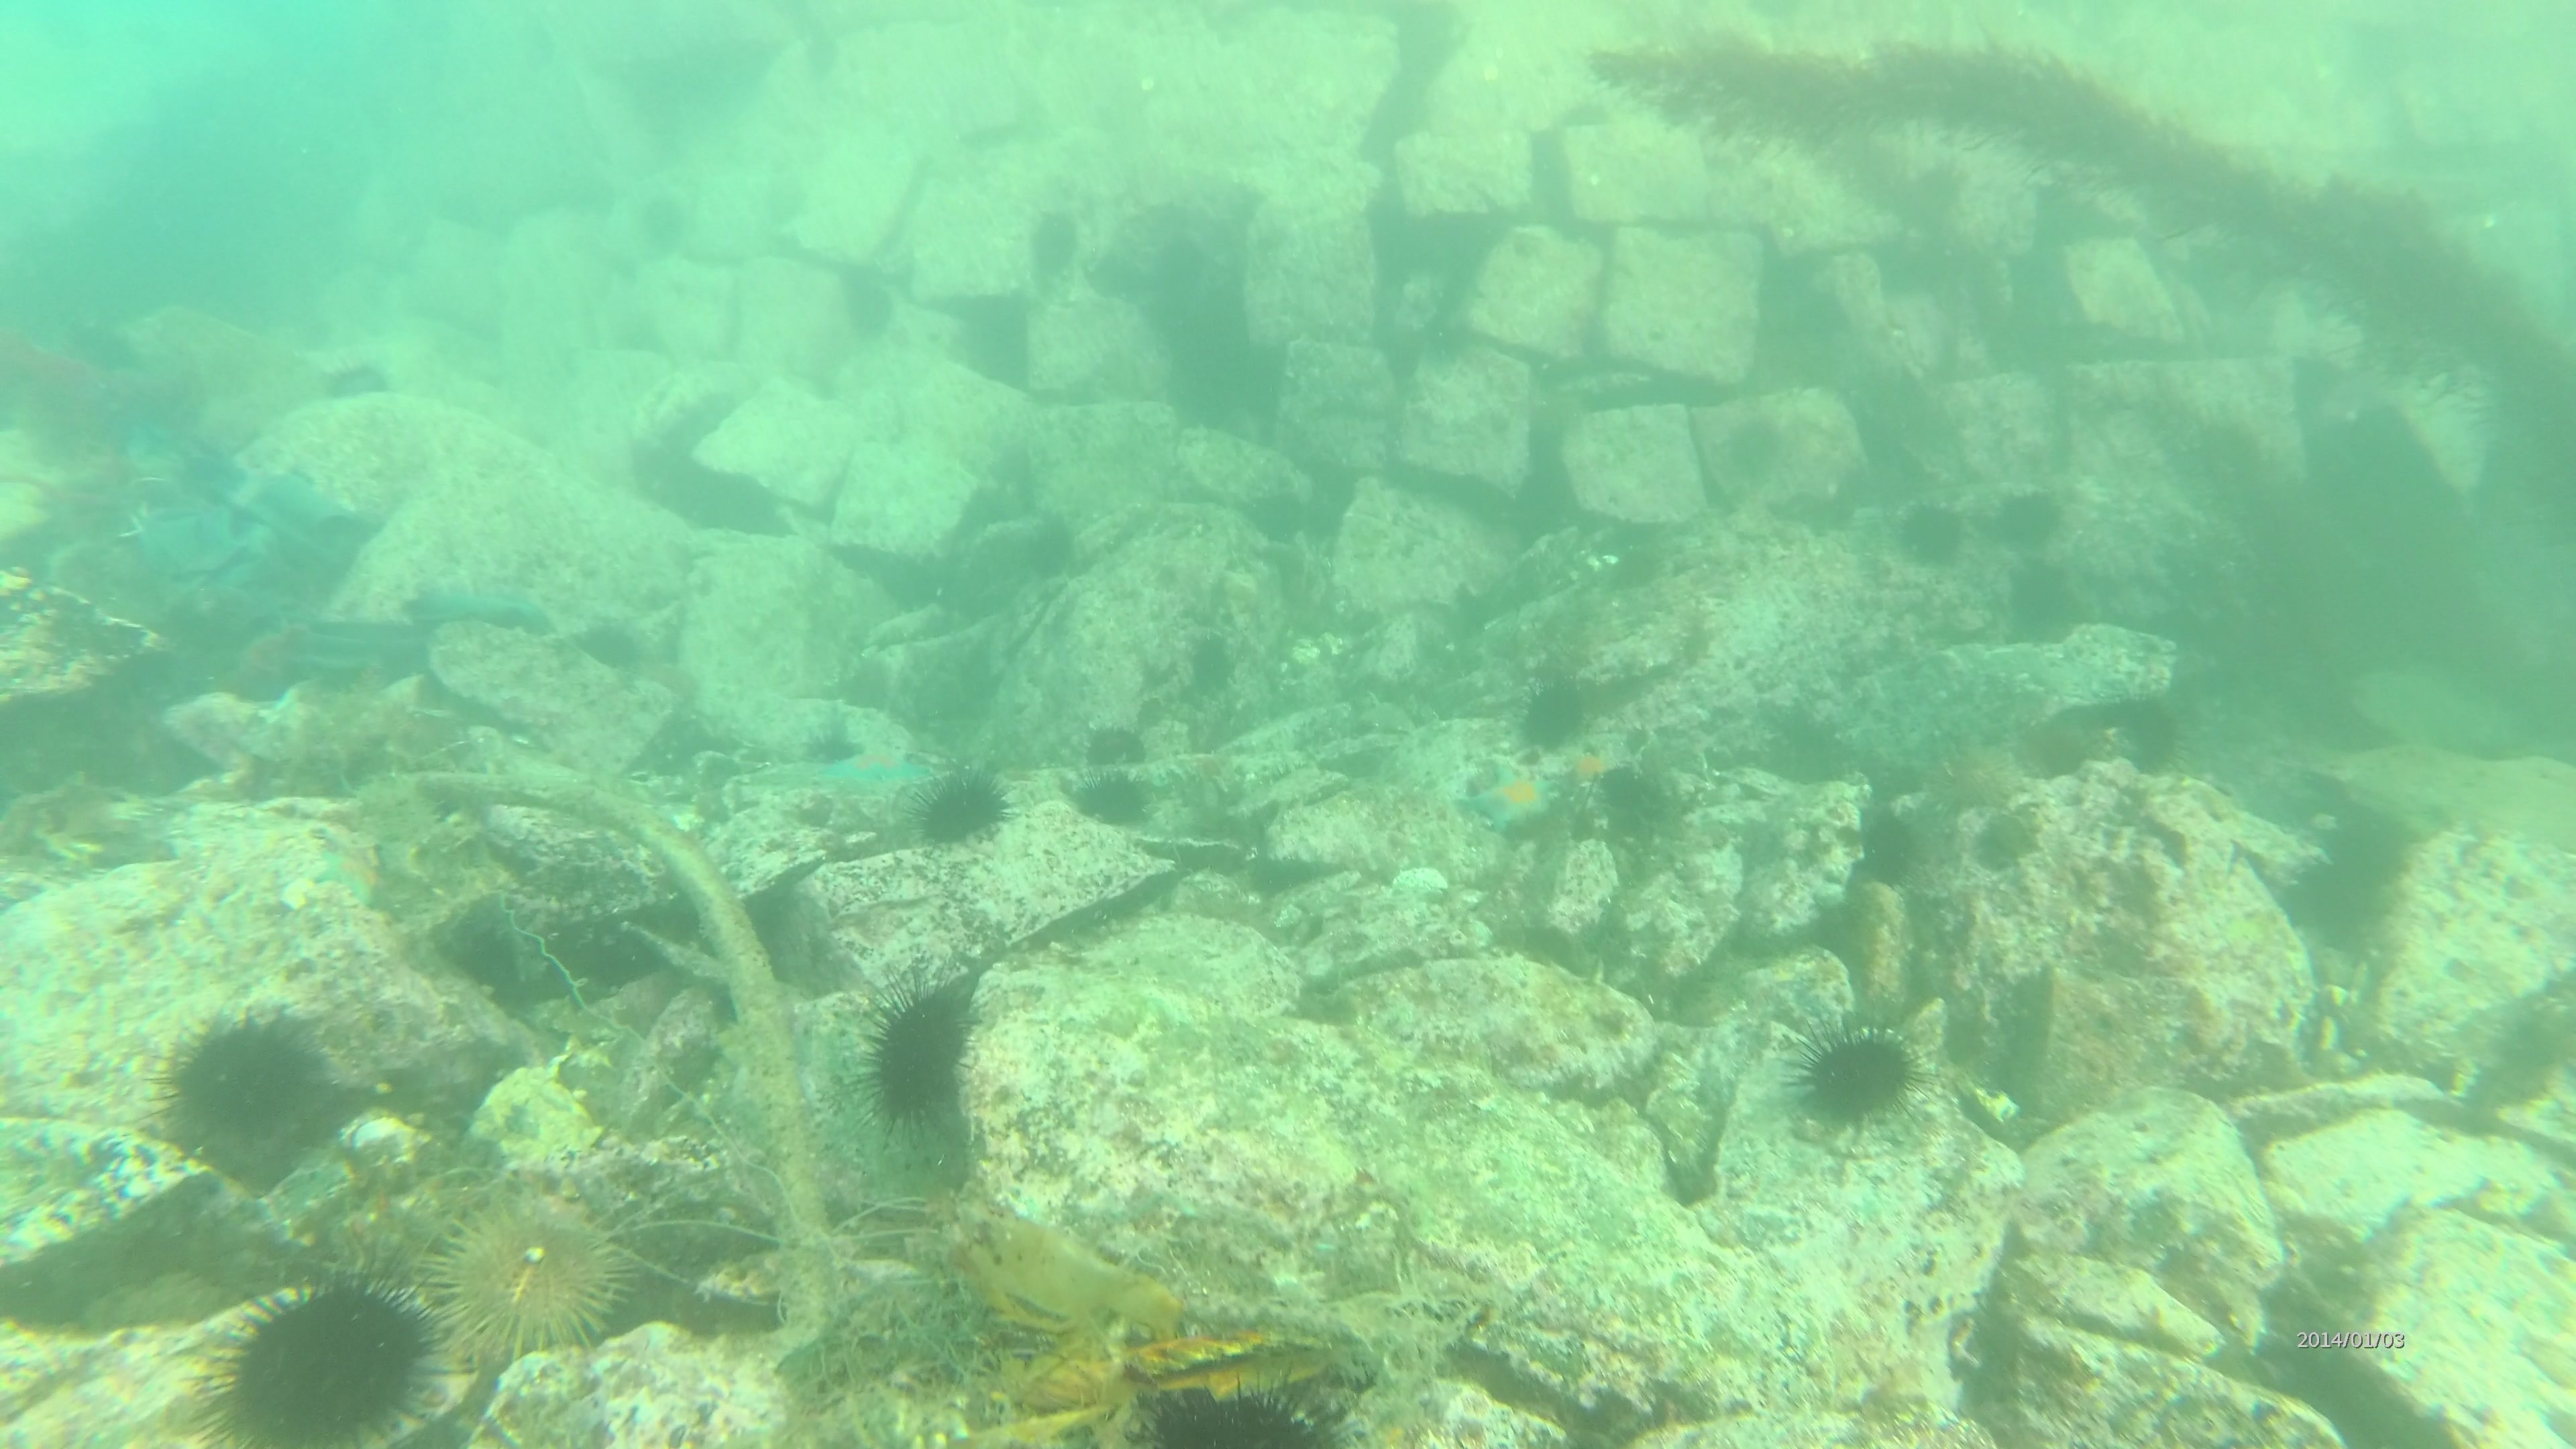echinus: (198, 1265, 449, 1444), (423, 1189, 637, 1364), (152, 1005, 331, 1162), (853, 970, 989, 1138), (1782, 1012, 1927, 1136), (1141, 1368, 1352, 1442), (2166, 409, 2275, 520), (1921, 731, 2036, 824), (909, 763, 1016, 855), (2091, 686, 2192, 782), (1997, 556, 2089, 649), (1591, 755, 1679, 847), (1511, 665, 1598, 755), (828, 255, 906, 347), (1890, 494, 1973, 575), (1067, 763, 1159, 835), (1987, 481, 2070, 559), (1019, 200, 1088, 287), (1177, 625, 1244, 704), (571, 612, 649, 679), (628, 186, 697, 260), (1077, 717, 1154, 778), (315, 357, 384, 396)
starfish: (810, 715, 941, 807), (1458, 755, 1564, 840), (306, 823, 391, 908), (1545, 736, 1635, 809)
